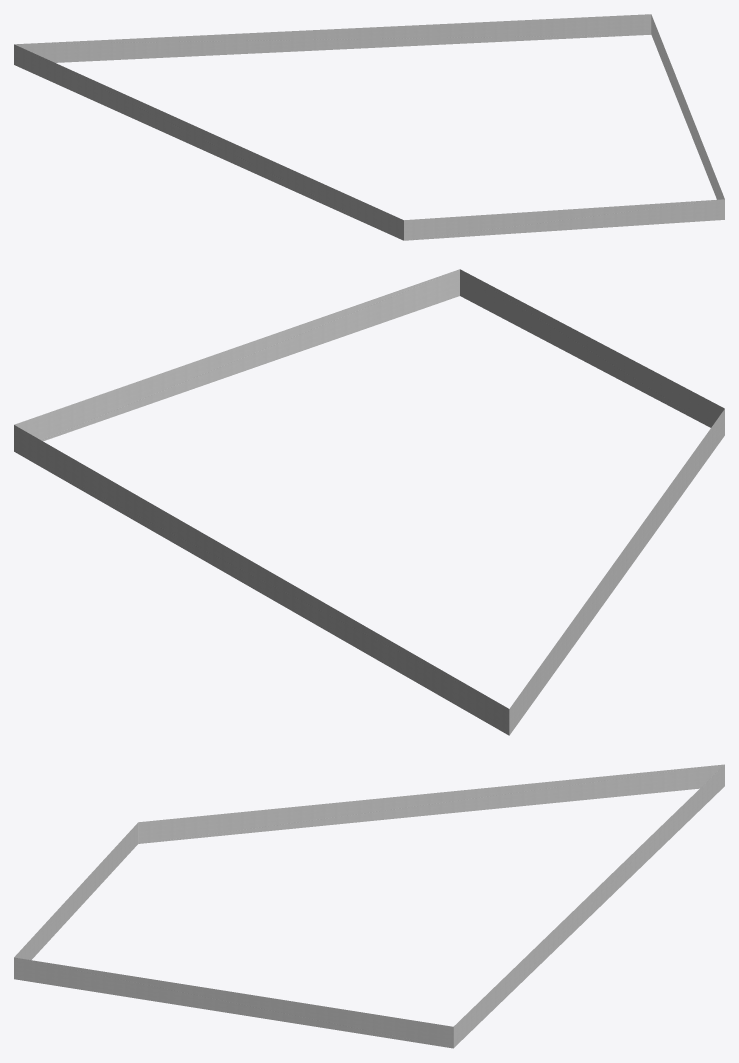
The model's file is techniJunkFence.gltf.
3 views of the same model, one above another, from view 1: azimuth 30°, elevation 25°; view 2: azimuth 150°, elevation 25°; view 3: azimuth 270°, elevation 25° (orthographic). The views are drawn at different scales.
Parts seen in each view (by area): view 1: node1; view 2: node1; view 3: node1.
Boxes of the visible parts, bbox=[...] form: node1: bbox=[14, 14, 724, 240]; node1: bbox=[14, 269, 724, 735]; node1: bbox=[14, 764, 724, 1048].
Size of the model in its own units: 51.7 by 2 by 59.22.
